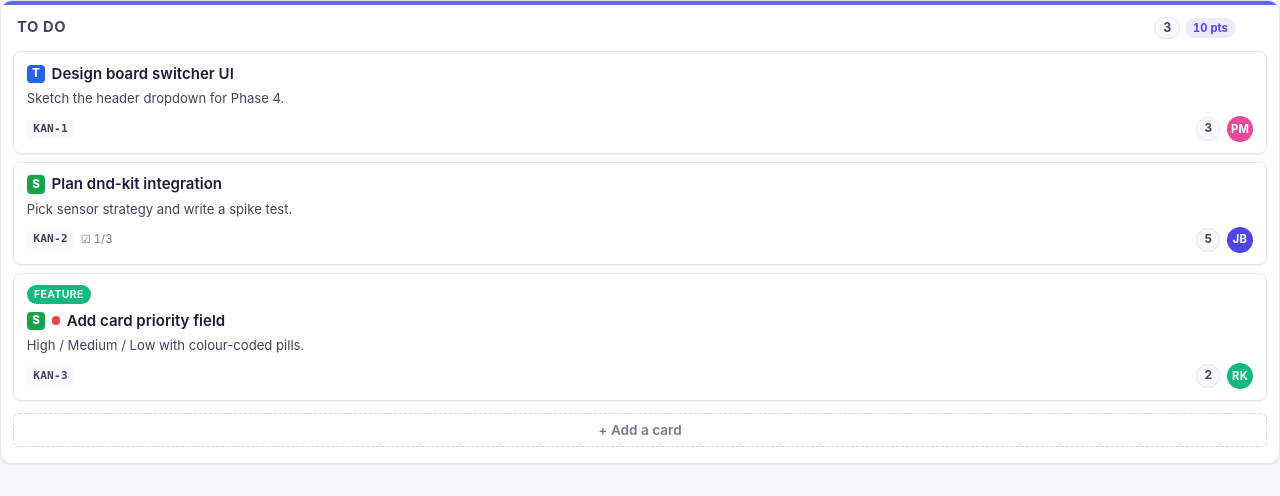
Test: KanbanColumn · rename column › opens inline rename input on header click
Click the button with aria-label "Rename column: To Do". click: x=42, y=28
box: [17, 19, 66, 37]
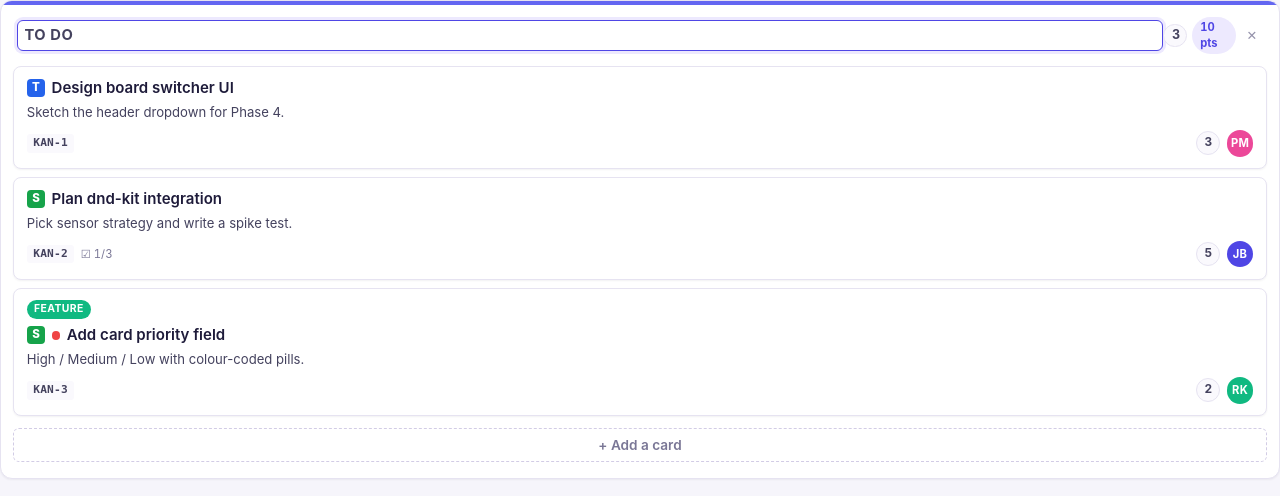
Replace the text in the field named "Rename column To Do" with "Backlog". click: x=590, y=35
box: [17, 20, 1163, 51]
Then press Enter
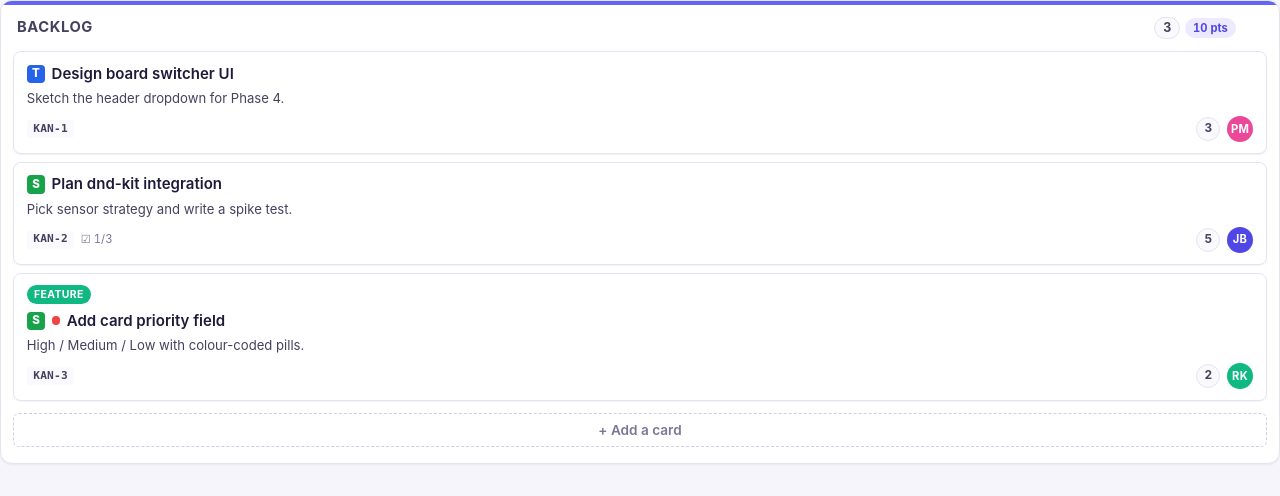
Expected: the heading "Backlog" is shown, [17, 19, 93, 37]
